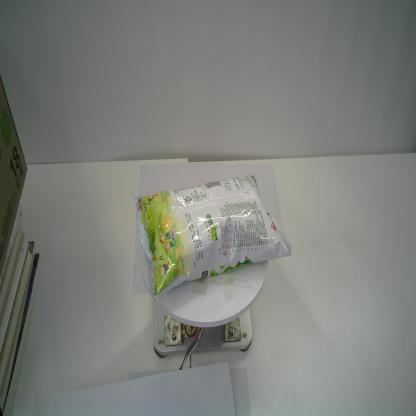Puffed Food: (131, 172, 293, 304)
